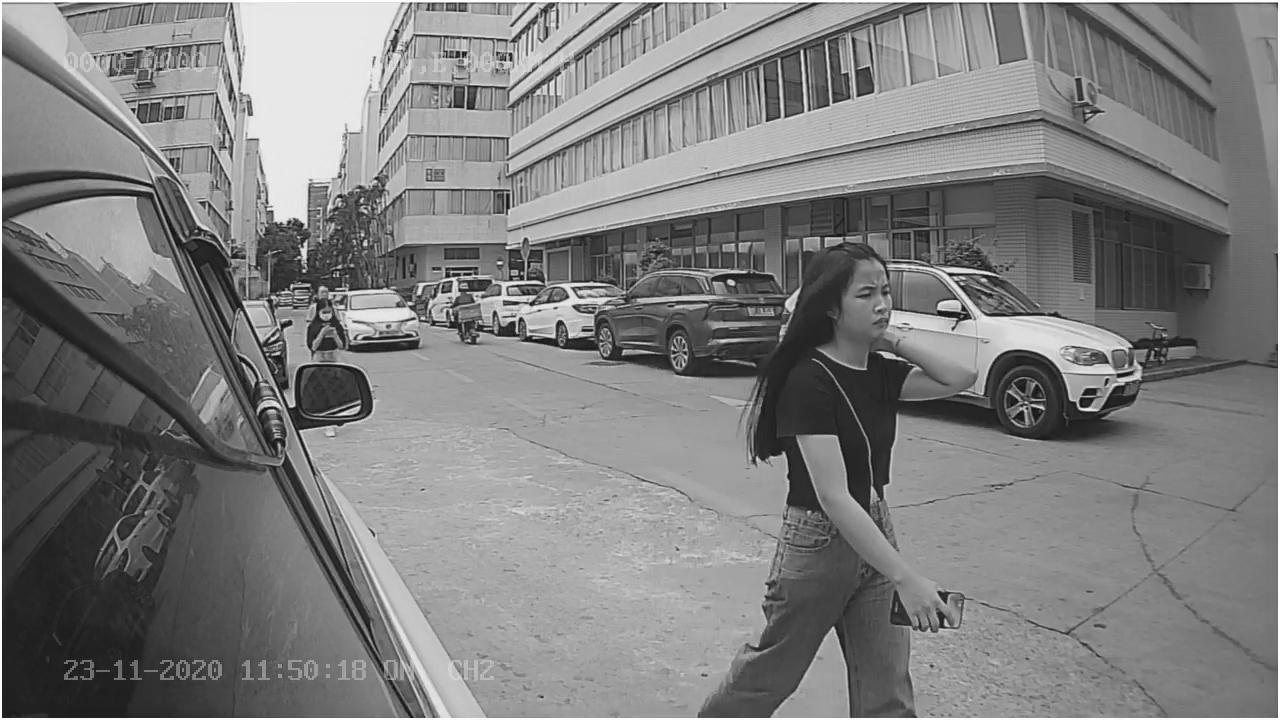person: (750, 237, 974, 632)
